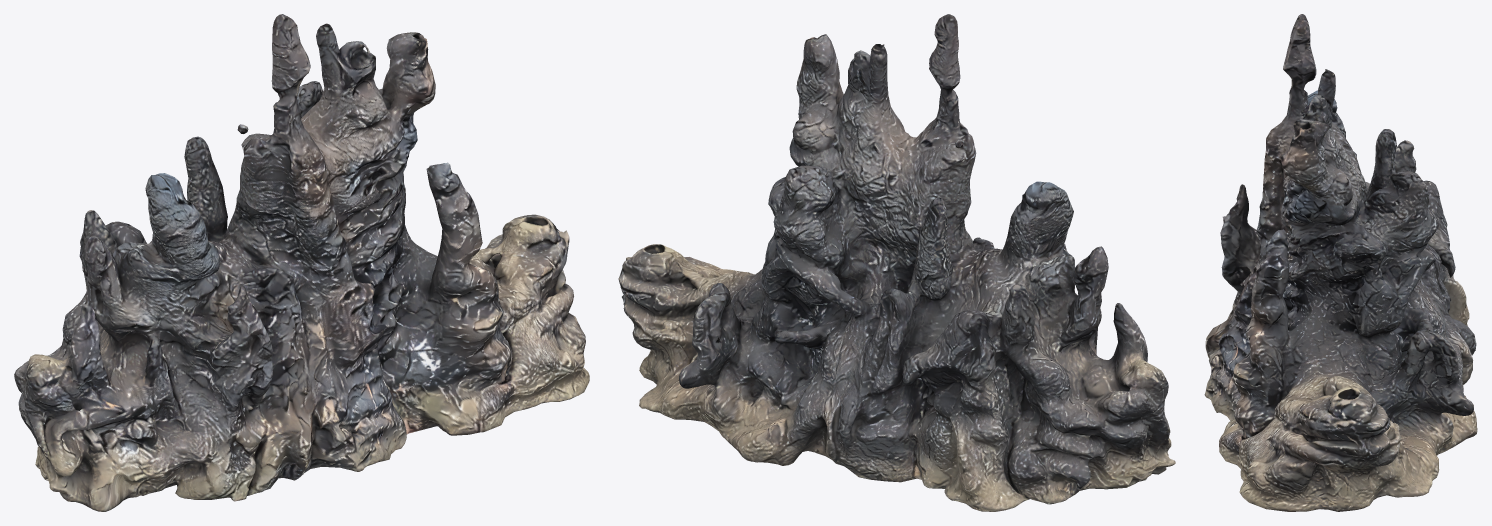
Rendered from base_basic_shaded.glb.
The picture shows the model from 3 angles, left to right: view 1: azimuth 30°, elevation 25°; view 2: azimuth 150°, elevation 25°; view 3: azimuth 270°, elevation 25°; orthographic projection. The views are drawn at different scales.
Parts seen in each view (by area): view 1: model; view 2: model; view 3: model.
Boxes of the visible parts, left/top/right/bottom form: model: left=14, top=14, right=589, bottom=511; model: left=618, top=14, right=1175, bottom=511; model: left=1204, top=14, right=1477, bottom=511.
Bounding box in the file's own units: 1.87 × 1.4 × 0.9132.
1 material, 1 textured.
